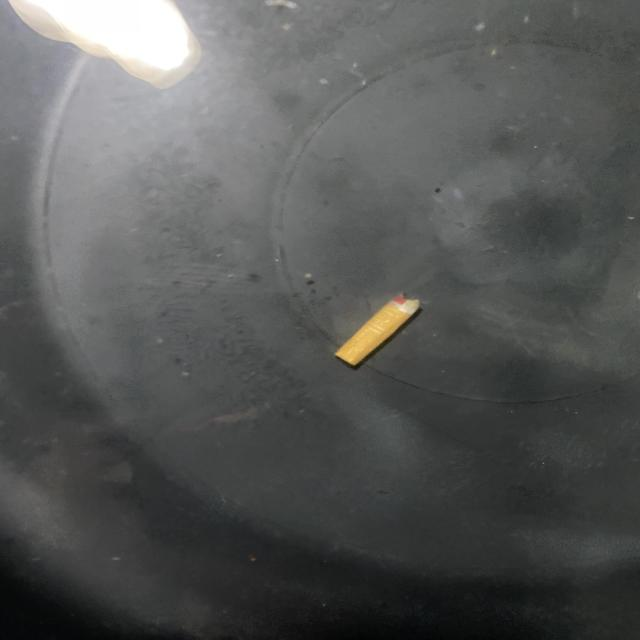Cigarette Filter: (317, 288, 437, 373)
